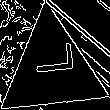L_W: (27, 51, 76, 88)
